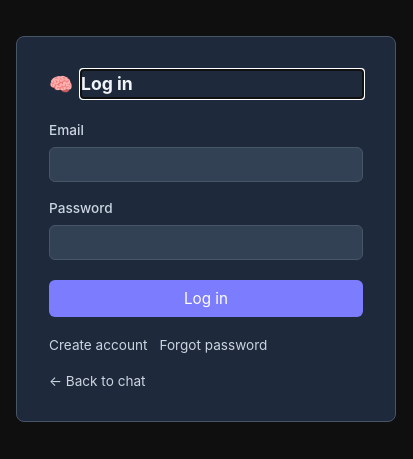
it: LoginView – Supabase configured › shows error message when supabaseLogin fails
The image size is (413, 459).
Type "user@example.com" into the field labelled "Email" at (206, 165), box [49,147,363,182]
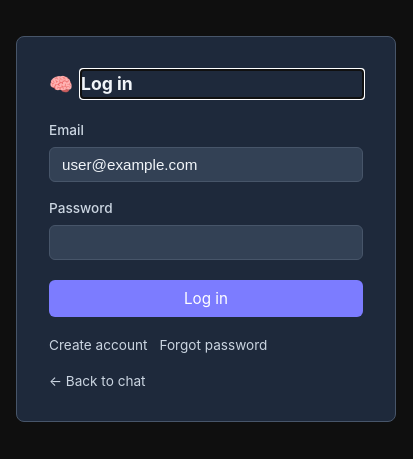
Type "wrong" into the password field labelled "Password" at (206, 243), box [49,225,363,260]
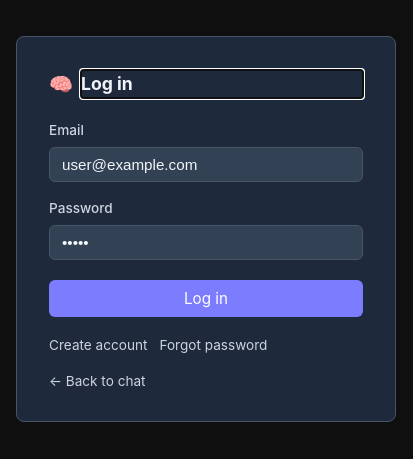
Click the button "Log in" at (206, 299), box [49,280,363,317]
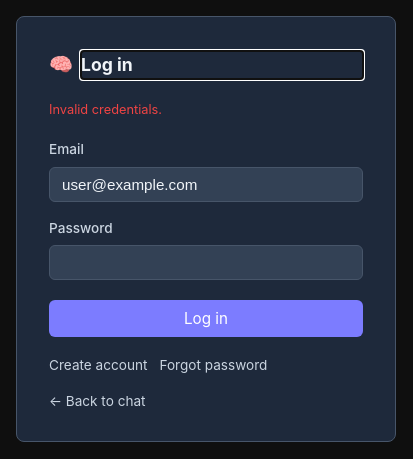
Expected: the message shows "Invalid credentials", [49,102,162,117]
